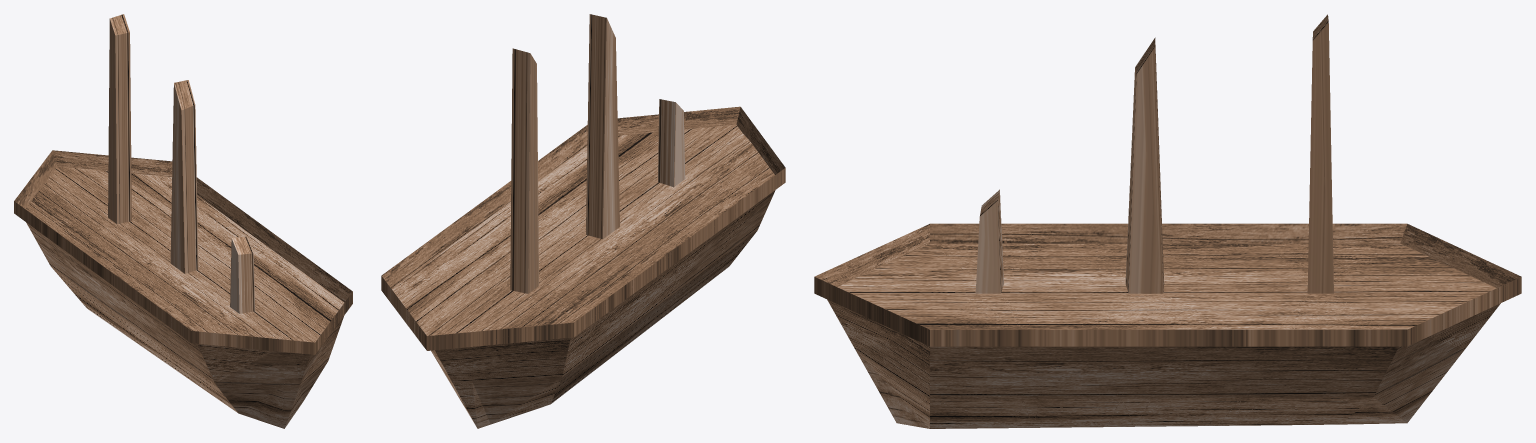
Rendered from barco3.fbx.
The picture shows the model from 3 angles, left to right: view 1: azimuth 30°, elevation 25°; view 2: azimuth 150°, elevation 25°; view 3: azimuth 270°, elevation 25°; orthographic projection. The views are drawn at different scales.
Parts seen in each view (by area): view 1: Cubo; view 2: Cubo; view 3: Cubo.
Part boxes in pixels (x1,y1,x2,y2): Cubo: [14, 14, 352, 428]; Cubo: [381, 14, 785, 428]; Cubo: [814, 14, 1521, 428].
Bounding box in the file's own units: 310 × 547 × 875.
1 material, 1 textured.
